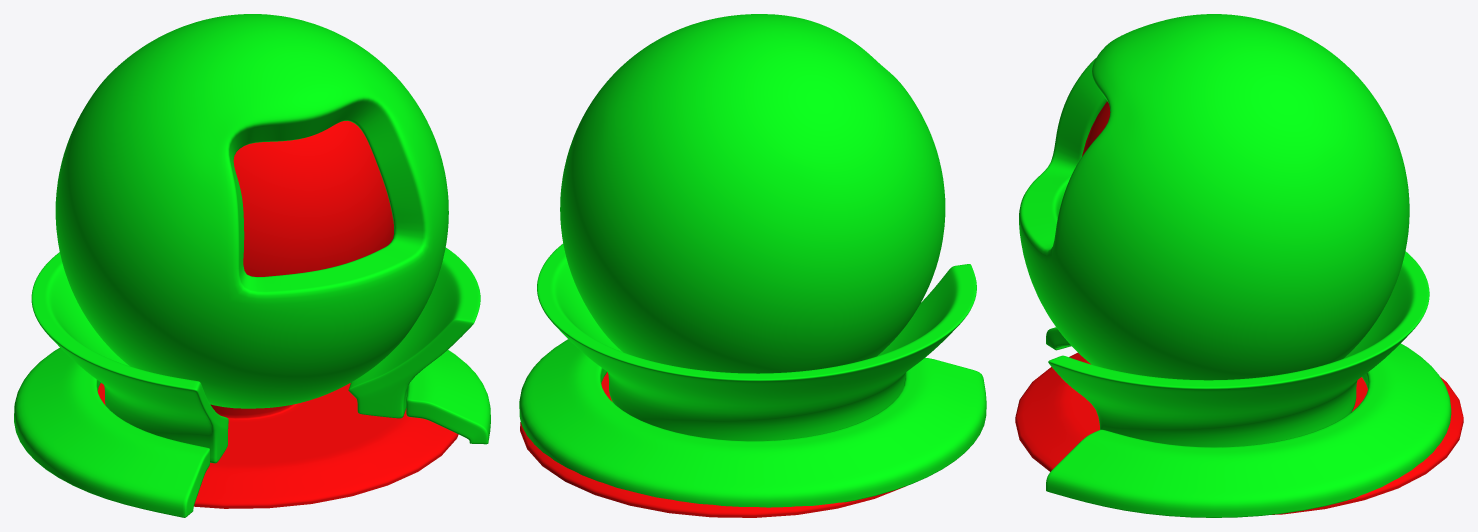
Rendered from mitsuba_ball.FBX.
The picture shows the model from 3 angles, left to right: view 1: azimuth 30°, elevation 25°; view 2: azimuth 150°, elevation 25°; view 3: azimuth 270°, elevation 25°; orthographic projection. The views are drawn at different scales.
Visible parts, largest first — view 1: 3; view 2: 3; view 3: 3.
Boxes of the visible parts, left/top/right/bottom form: 3: left=14, top=14, right=490, bottom=517; 3: left=519, top=14, right=986, bottom=517; 3: left=1015, top=14, right=1463, bottom=517.
Bounding box in the file's own units: 2.44 × 2.21 × 2.31.
